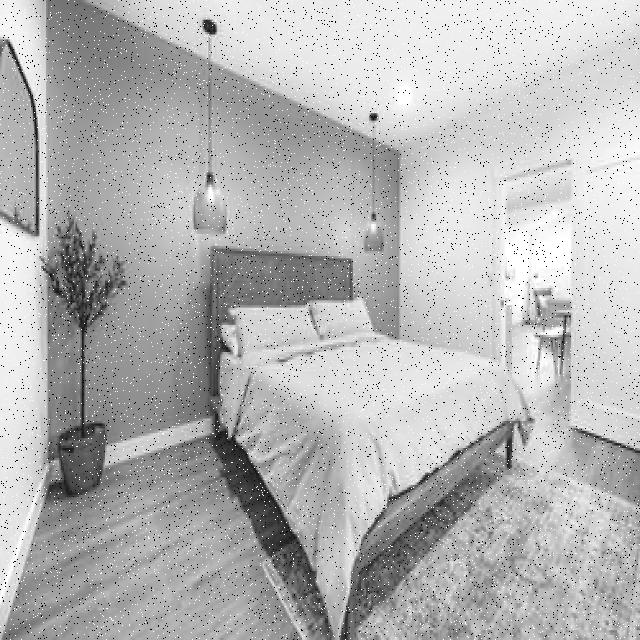bed: (209, 242, 533, 544)
